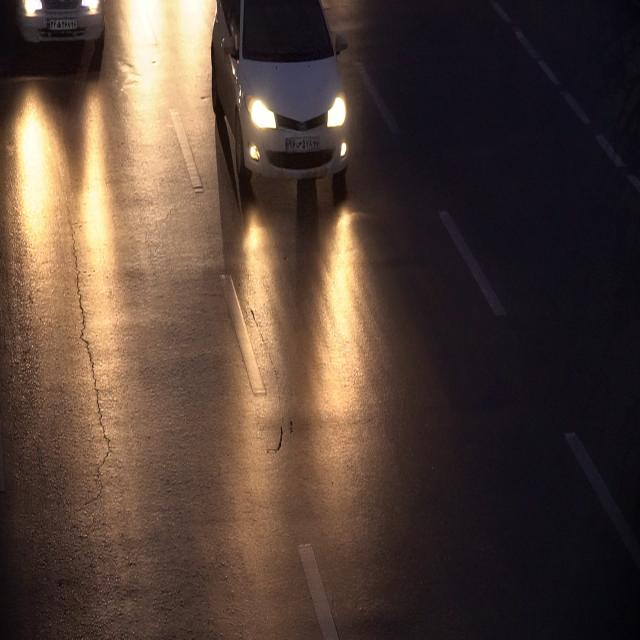car: (212, 0, 350, 189), (18, 0, 106, 50)
